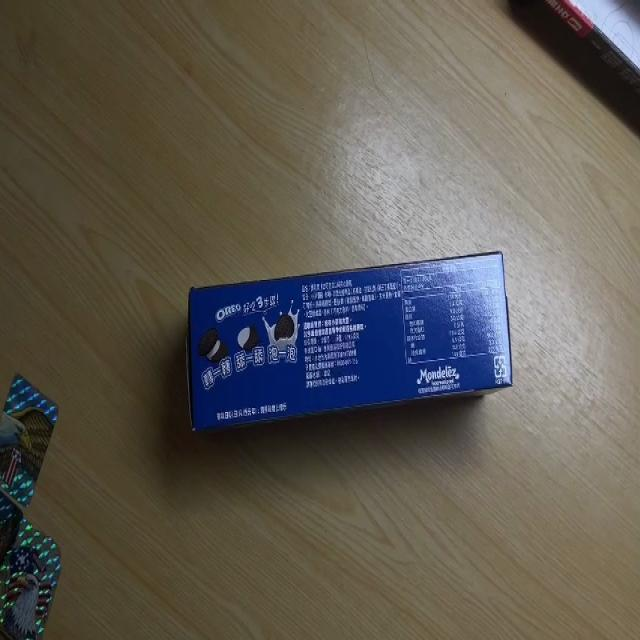Oreo: (188, 249, 515, 430)
